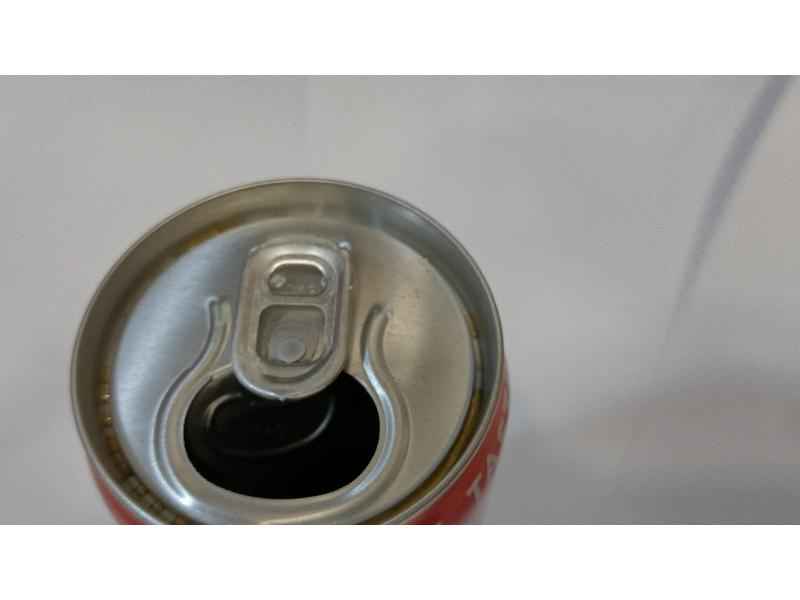can: (59, 171, 520, 521)
